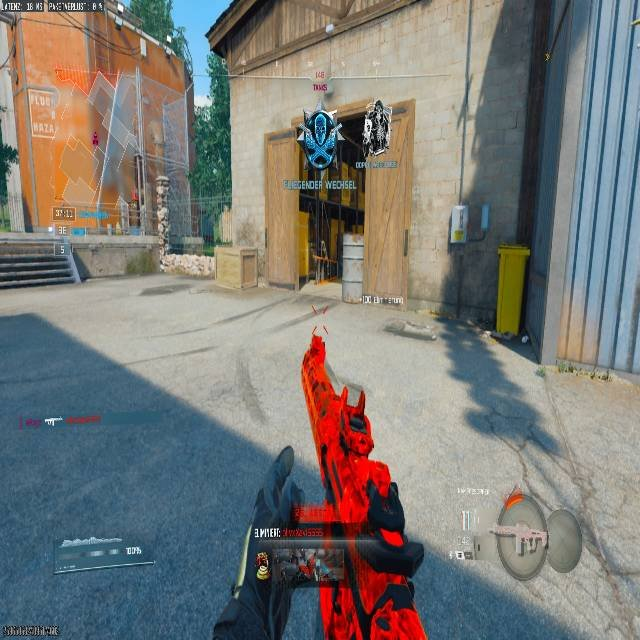player: (297, 106, 338, 168), (89, 239, 101, 256)
